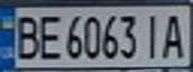0: (81, 11, 103, 61)
3: (118, 11, 142, 61)
6: (60, 11, 84, 61), (100, 11, 121, 61)
A: (160, 10, 190, 60)
B: (9, 11, 42, 61)
E: (36, 11, 63, 61)
I: (139, 10, 166, 60)
